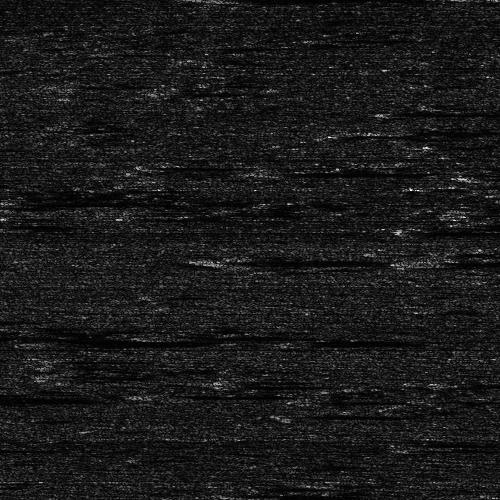object: (358, 123, 441, 136), (222, 166, 315, 177), (157, 0, 262, 9), (446, 179, 500, 190), (358, 107, 441, 114), (200, 490, 263, 499), (205, 256, 258, 265), (308, 394, 349, 405), (134, 332, 197, 339), (21, 337, 84, 344), (400, 257, 441, 266), (119, 393, 192, 398), (286, 337, 327, 344), (264, 410, 317, 415), (444, 382, 485, 387)
shadow: (0, 330, 322, 343), (0, 324, 254, 335), (268, 166, 410, 177), (210, 0, 383, 9), (400, 123, 500, 136), (232, 490, 374, 499), (232, 256, 372, 265), (329, 394, 441, 405), (0, 391, 105, 402), (53, 337, 213, 344), (166, 332, 300, 339), (307, 337, 416, 344), (421, 257, 500, 266), (400, 107, 500, 114), (291, 410, 400, 415), (156, 393, 259, 398), (464, 382, 500, 387)
